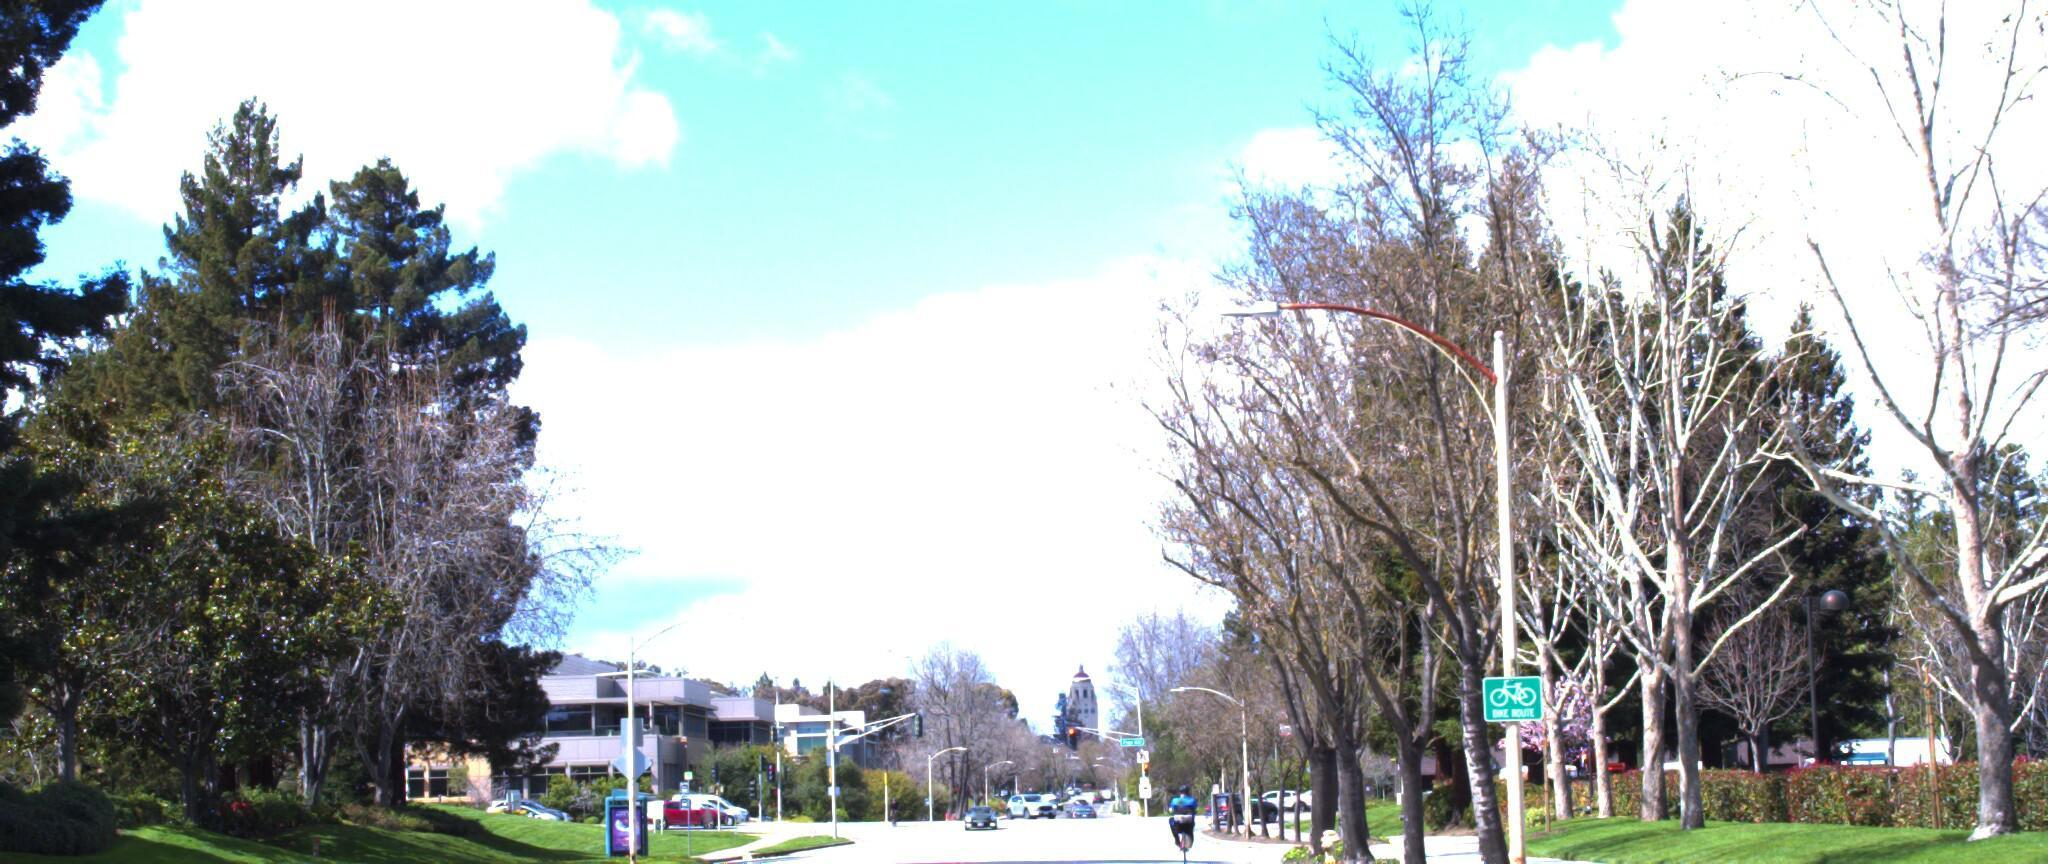bicycle: (1168, 773, 1208, 856)
